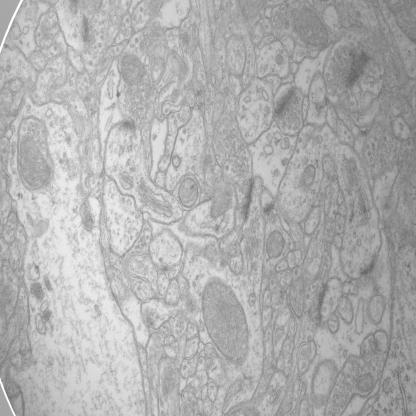mitochondria: (198, 278, 250, 365), (16, 115, 55, 195), (290, 7, 330, 49), (119, 52, 145, 87), (177, 177, 199, 209), (266, 229, 284, 262)
